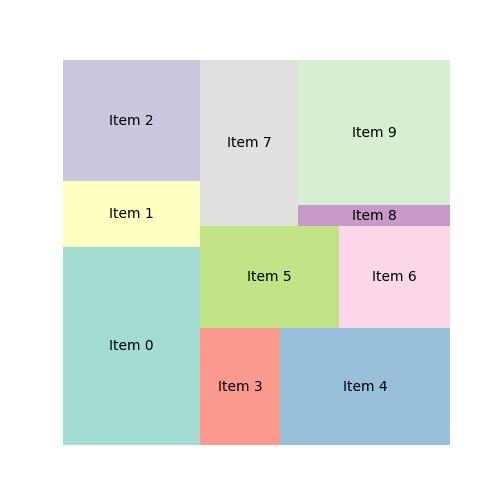rectangle: (63, 248, 199, 444), (299, 60, 450, 205), (281, 327, 451, 444), (64, 61, 202, 181), (201, 61, 298, 225), (201, 224, 338, 326), (340, 226, 451, 328), (201, 325, 280, 446), (64, 181, 201, 246), (297, 204, 450, 226)
